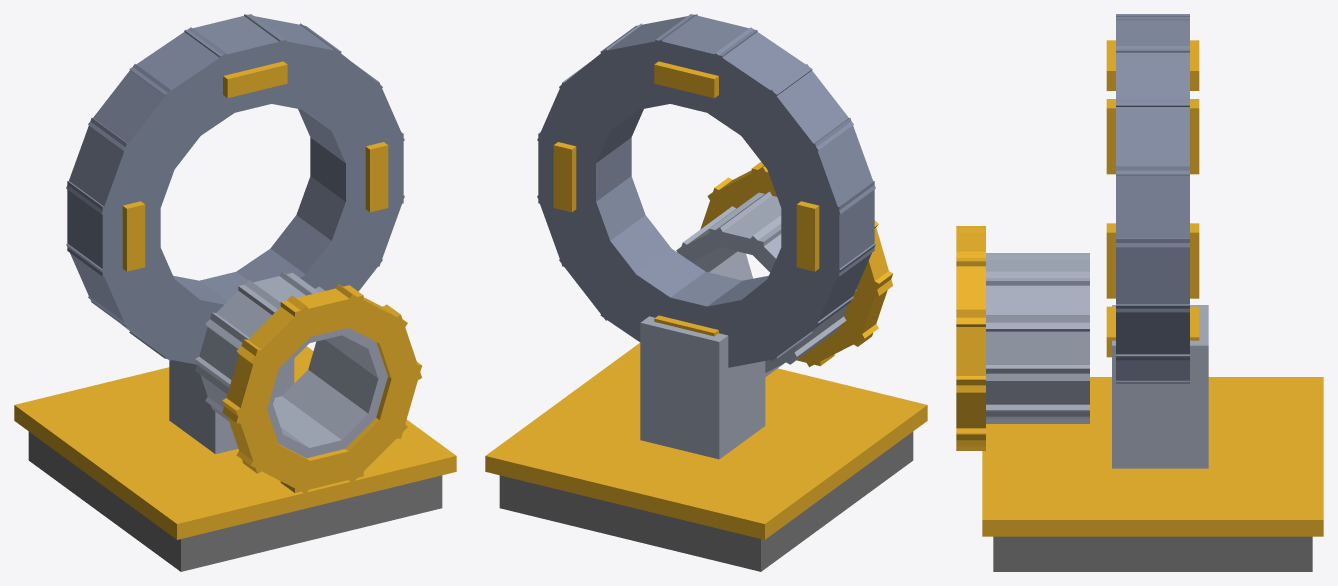
File: pipe_endless.glb
The picture shows the model from 3 angles, left to right: view 1: azimuth 30°, elevation 25°; view 2: azimuth 150°, elevation 25°; view 3: azimuth 270°, elevation 25°; orthographic projection. The views are drawn at different scales.
Parts seen in each view (by area): view 1: pipe_endless; view 2: pipe_endless; view 3: pipe_endless.
Part boxes in pixels (x1,y1,x2,y2): pipe_endless: (14, 14, 456, 571); pipe_endless: (485, 14, 927, 571); pipe_endless: (956, 14, 1323, 571).
Size of the model in its own units: 1 by 1.42 by 1.
